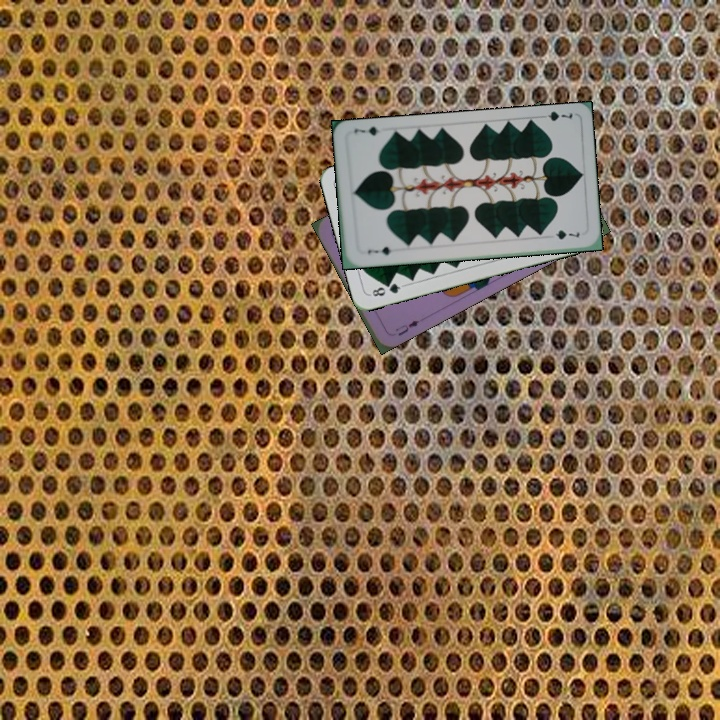EU: (391, 316, 421, 338)
G7: (535, 107, 575, 123), (364, 243, 394, 257)
G8: (366, 279, 406, 299)
